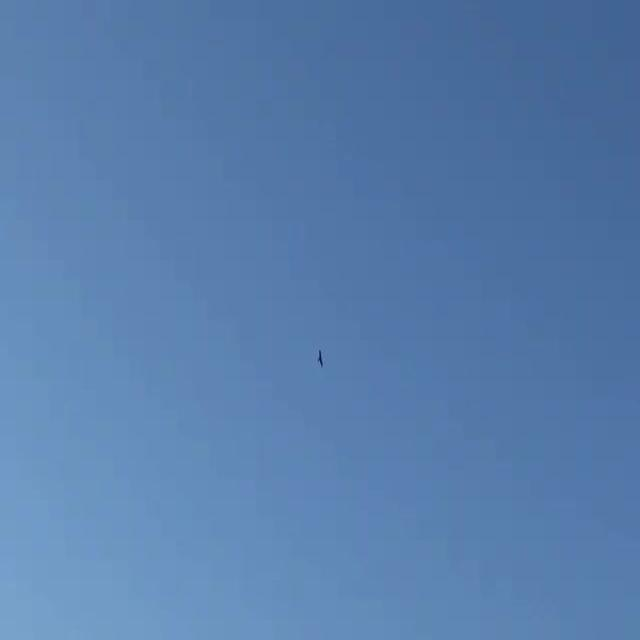bird: (310, 346, 337, 370)
